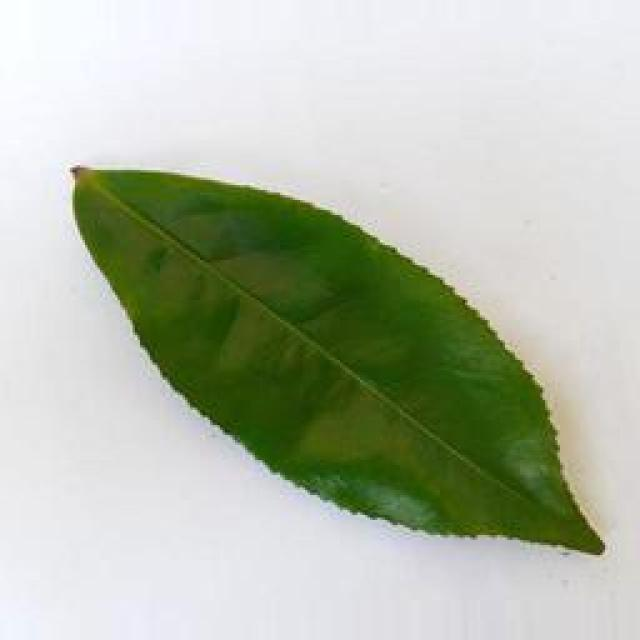Healthy: (62, 158, 611, 559)
